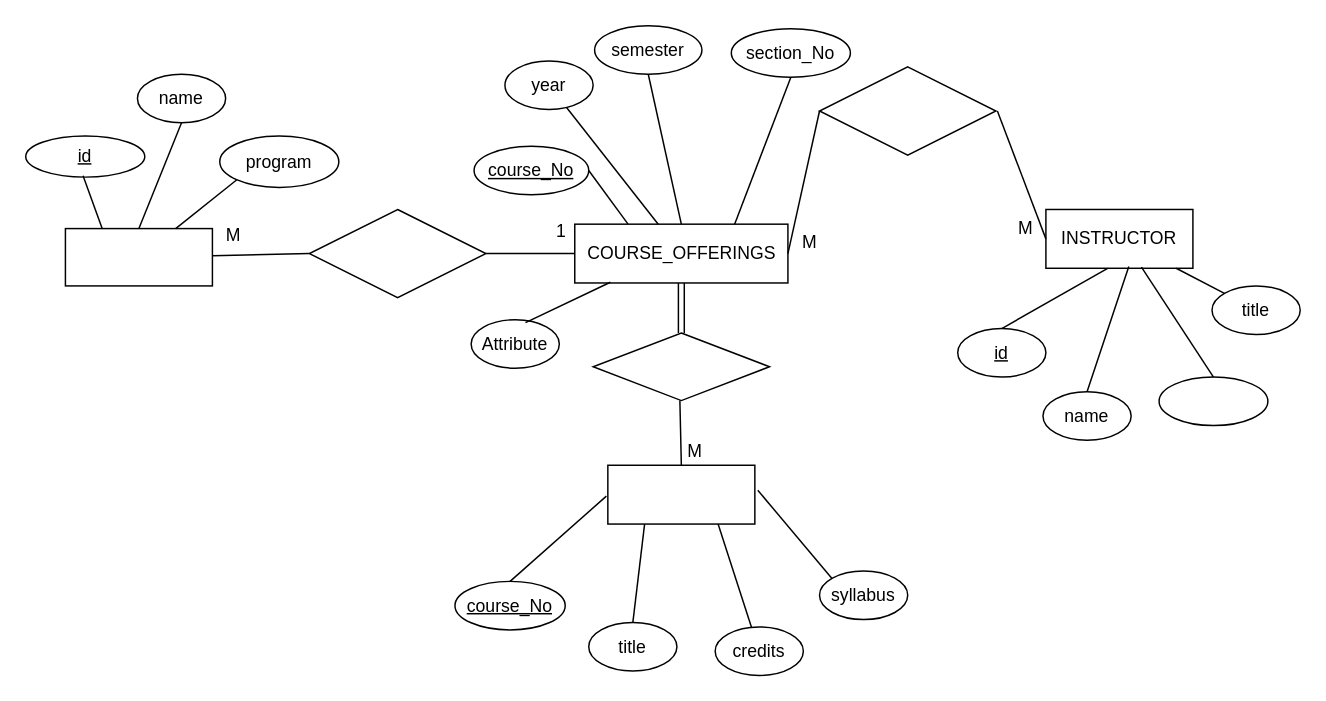
This 1326x701 diagram has some shape labels left out. The shapes that lost their labels are listed below. From the top down, each one's box as (x1, y1, x2, y2) in pixels, then its label:
(818, 65, 996, 155): Teaches
(64, 227, 212, 286): STUDENT
(308, 208, 486, 298): Enrolls
(592, 331, 770, 401): Is_Offered
(1158, 376, 1268, 426): department
(606, 464, 755, 524): COURSES
